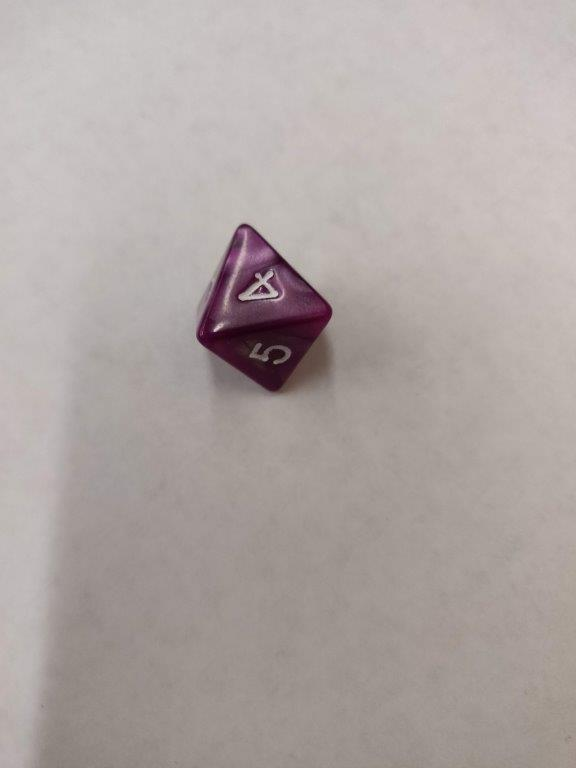d8-4: (194, 222, 336, 396)
